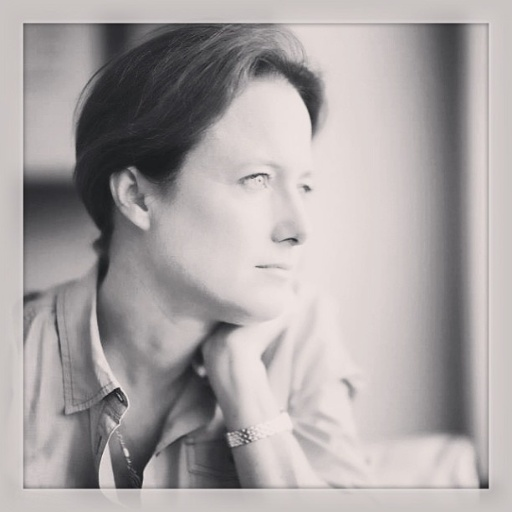hand: (187, 306, 307, 463)
